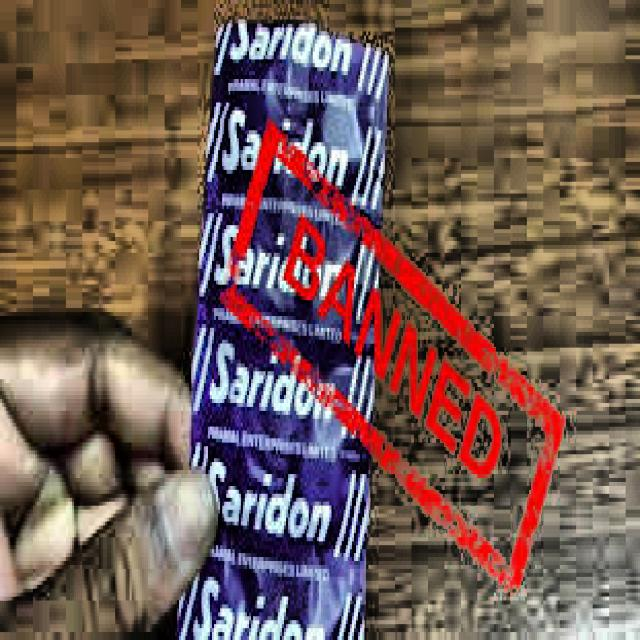Saridon: (219, 29, 354, 640)
